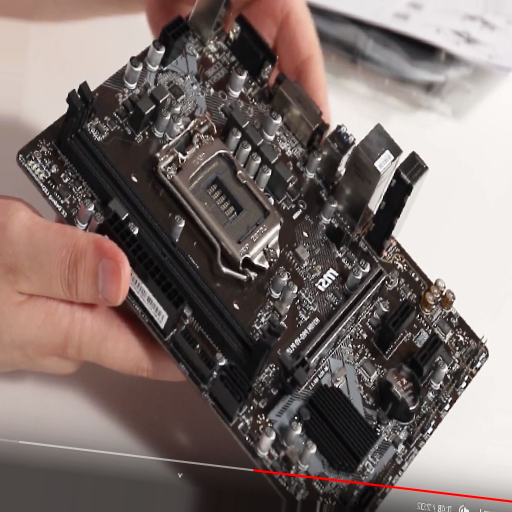CPU: (158, 117, 281, 269)
GPU: (277, 263, 392, 387)
MOTHERBOARD: (20, 8, 488, 504)
RAM: (63, 85, 282, 384)
